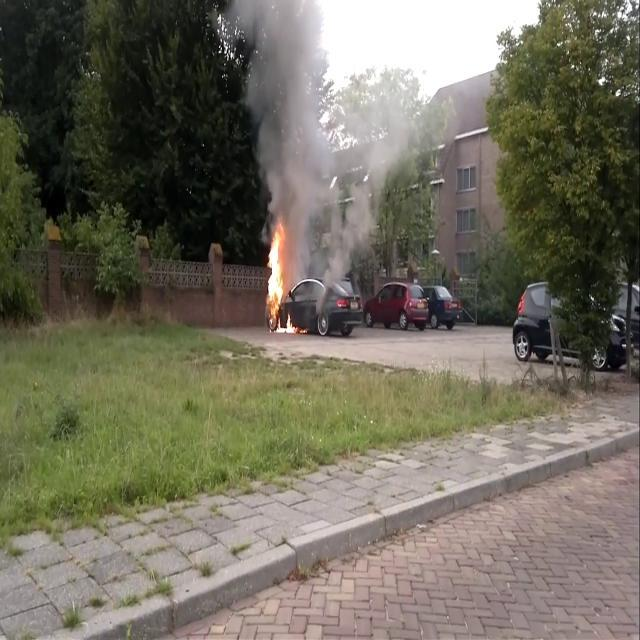Fire: (264, 220, 290, 326)
Smoke: (240, 0, 422, 291)
